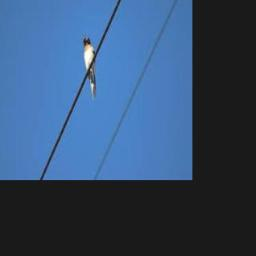Swallow: (83, 36, 97, 99)
